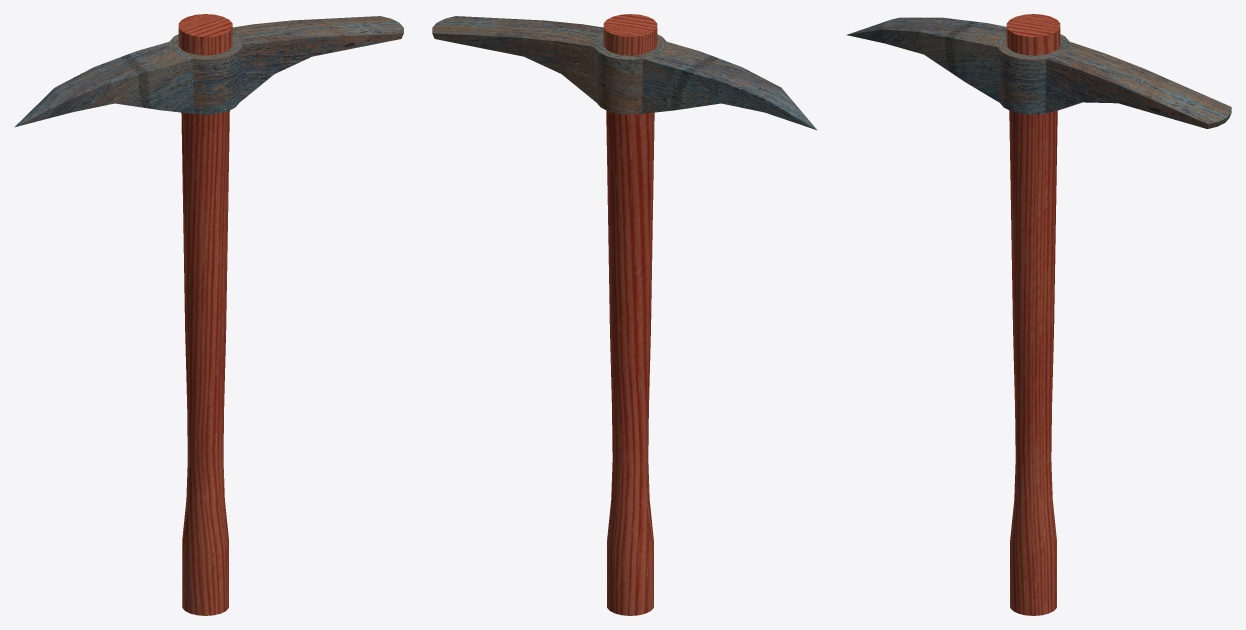
Rendered from pickAxe.FBX.
3 views of the same model, side by side, from view 1: azimuth 30°, elevation 25°; view 2: azimuth 150°, elevation 25°; view 3: azimuth 330°, elevation 25° (orthographic).
Visible parts, largest first — view 1: Cylinder001; view 2: Cylinder001; view 3: Cylinder001.
Part boxes in pixels (bbox=[...]): Cylinder001: bbox=[14, 14, 403, 615]; Cylinder001: bbox=[432, 14, 816, 615]; Cylinder001: bbox=[847, 14, 1231, 615].
Size of the model in its own units: 26.73 by 4.37 by 38.67.
Materials: 1 (1 with a texture image).
